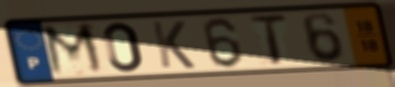0: (101, 21, 145, 74)
6: (201, 15, 246, 71), (300, 11, 346, 65)
K: (148, 20, 198, 70)
M: (38, 21, 109, 79)
T: (245, 12, 291, 68)
